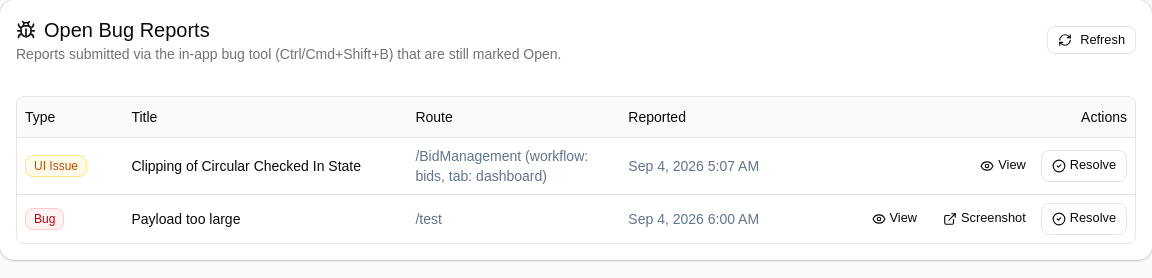
Test: BugReportsAdmin › Resolve posts the real payload and removes the row from the list on success
The image size is (1152, 278).
Expected: the text "Clipping of Circular Checked In State" is shown, [124,137,407,194]
Click the button "Resolve" in the row of "UI Issue" at (1084, 166), box [1041,150,1127,182]
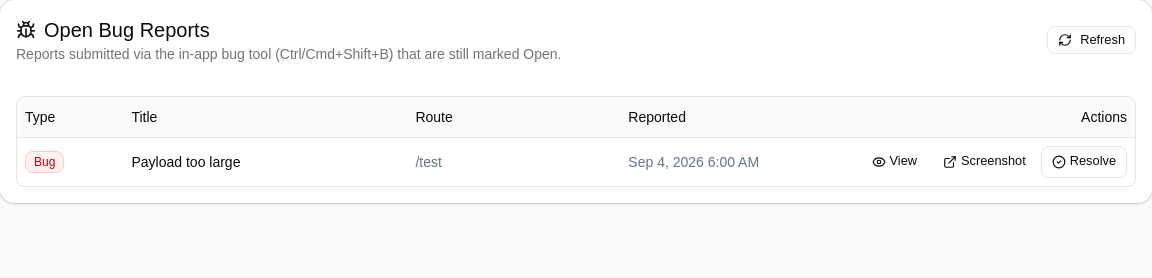
Expected: the text "Payload too large" is shown, [124,137,407,186]
Expected: the text "Clipping of Circular Checked In State" is gone
